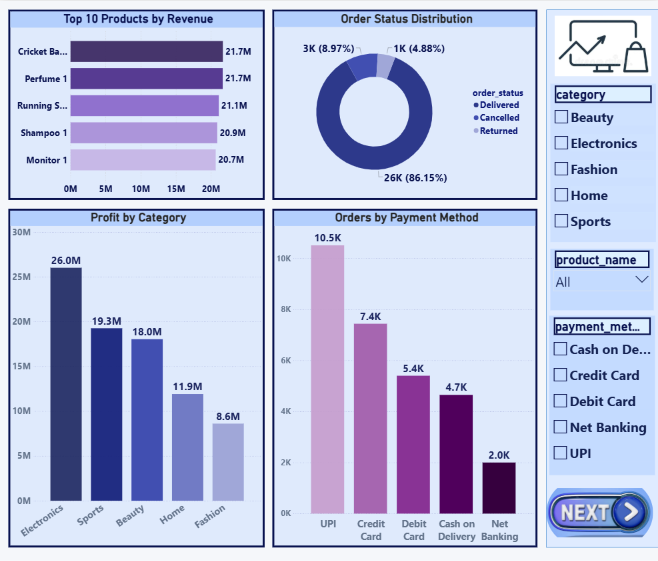

This screenshot's page, from the dashboard's own definition file:
{"tool":"powerbi","page":{"name":"Page 2","canvas":[2000,1700],"ordinal":1},"visuals":[{"type":"donutChart","title":"Order Status Distribution","fields":{"Category":["Orders.order_status"],"Y":["Customers.Total Orders"]},"box":[826.7,26.7,803.3,576.7],"z":0},{"type":"columnChart","title":"Orders by Payment Method","fields":{"Category":["Orders.payment_method"],"Y":["Customers.Total Orders"]},"box":[826.7,630,803.3,1026.7],"z":1000},{"type":"clusteredBarChart","title":"Top 10 Products by Revenue","fields":{"Category":["Products.product_name"],"Y":["Customers.Total Revenue"]},"box":[26.7,26.7,776.7,576.7],"z":2000},{"type":"shape","box":[1656.7,26.7,343.3,1630],"z":3000},{"type":"slicer","fields":{"Values":["Products.category"]},"box":[1670,250,320,480],"z":4000},{"type":"clusteredColumnChart","title":"Profit by Category","fields":{"Category":["Products.category"],"Y":["Sum(Order_Items.profit)"]},"box":[26.7,630,776.7,1026.7],"z":5000},{"type":"slicer","fields":{"Values":["Products.product_name"]},"box":[1670,750,313.3,186.7],"z":6000},{"type":"slicer","fields":{"Values":["Orders.payment_method"]},"box":[1666.7,953.3,320,483.3],"z":7000},{"type":"image","box":[1656.7,1450,323.3,200],"z":8000},{"type":"image","box":[1656.7,46.7,343.3,183.3],"z":9000}]}

Visuals, with their boxes in screenshot pixels (x1, y1, x2, y2), scaled from the page's 2000x1700 canvas onto the 658x561 screenshot:
"Order Status Distribution" donutChart: 272,9,536,199
"Orders by Payment Method" columnChart: 272,208,536,547
"Top 10 Products by Revenue" clusteredBarChart: 9,9,264,199
shape: 545,9,657,547
slicer - Products.category: 549,82,655,241
"Profit by Category" clusteredColumnChart: 9,208,264,547
slicer - Products.product_name: 549,248,653,309
slicer - Orders.payment_method: 548,315,654,474
image: 545,478,651,544
image: 545,15,657,76
